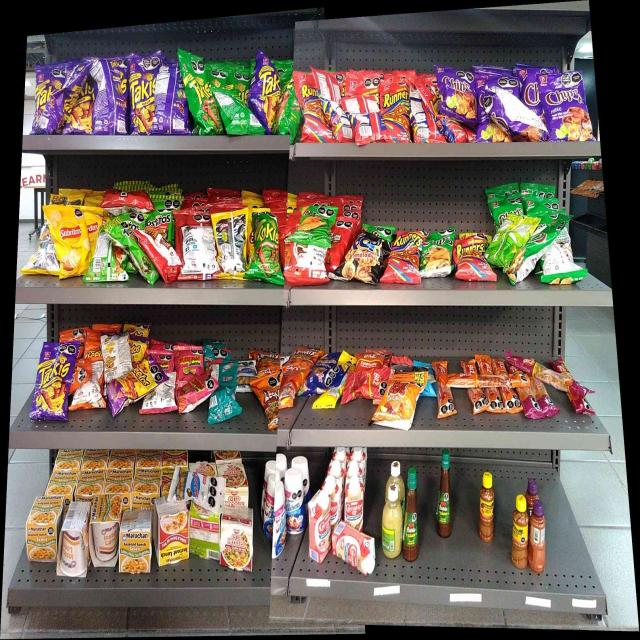bitzEnchilado90: (350, 371, 382, 395), (359, 353, 381, 368)
bitzEnchilado95: (454, 372, 528, 389), (434, 358, 452, 416), (468, 390, 488, 414), (505, 391, 521, 417), (489, 390, 504, 416), (463, 358, 477, 372), (479, 356, 492, 371), (494, 357, 505, 372)
bitzHabanero: (524, 392, 556, 421), (513, 356, 567, 371), (564, 382, 589, 412)
bokadosCacahuates: (303, 368, 334, 394)
botaneraChilito: (478, 470, 496, 543), (512, 494, 528, 568)
cheetosFlaminHot: (119, 367, 156, 392)
chipsFuego: (544, 79, 586, 139), (438, 68, 477, 120), (522, 71, 541, 110)
chipsJalapeno: (424, 232, 452, 272)
churrumais: (179, 381, 208, 404), (178, 352, 202, 376)
delPrimoSalsa: (380, 482, 401, 558)
hotNutsOriginal: (385, 374, 413, 422)
leoCacahuates: (175, 471, 220, 502)
leoMix: (402, 466, 420, 561), (262, 380, 279, 428)
maruchanPollo: (27, 494, 56, 564), (90, 494, 117, 567), (121, 515, 150, 574)
maruchanRes: (158, 508, 188, 563)
nestleCarnation: (332, 521, 376, 577), (308, 489, 332, 562), (345, 474, 364, 520)
nestleLechera: (283, 468, 306, 532), (267, 478, 283, 554)
nissinRes: (222, 509, 254, 572)
popKarameladas: (345, 235, 383, 279)
productoAtras: (94, 62, 120, 132), (218, 213, 245, 276), (158, 66, 179, 130), (220, 92, 252, 132), (185, 228, 212, 275), (412, 92, 433, 139), (351, 102, 379, 136), (94, 240, 118, 279), (498, 220, 530, 249), (28, 240, 55, 274), (547, 251, 578, 278), (296, 249, 324, 278), (74, 382, 100, 407), (144, 394, 173, 414)
rancheritos: (328, 225, 343, 265)
rufflesQueso: (298, 208, 324, 240)
runners: (383, 86, 409, 138), (394, 233, 421, 280), (456, 242, 486, 278), (303, 80, 319, 137)
sabritasOriginal: (56, 215, 88, 272), (89, 212, 100, 236)
salsaBufalo: (435, 447, 454, 539)
semillasGirasol: (211, 366, 235, 421)
tajinDulce: (529, 498, 546, 574)
takisFuego: (38, 351, 71, 418), (130, 69, 157, 131), (260, 61, 280, 120), (37, 69, 61, 106), (74, 83, 92, 132)
takisOriginal: (254, 221, 278, 278), (192, 77, 216, 133)
tostitos: (144, 212, 171, 232)
